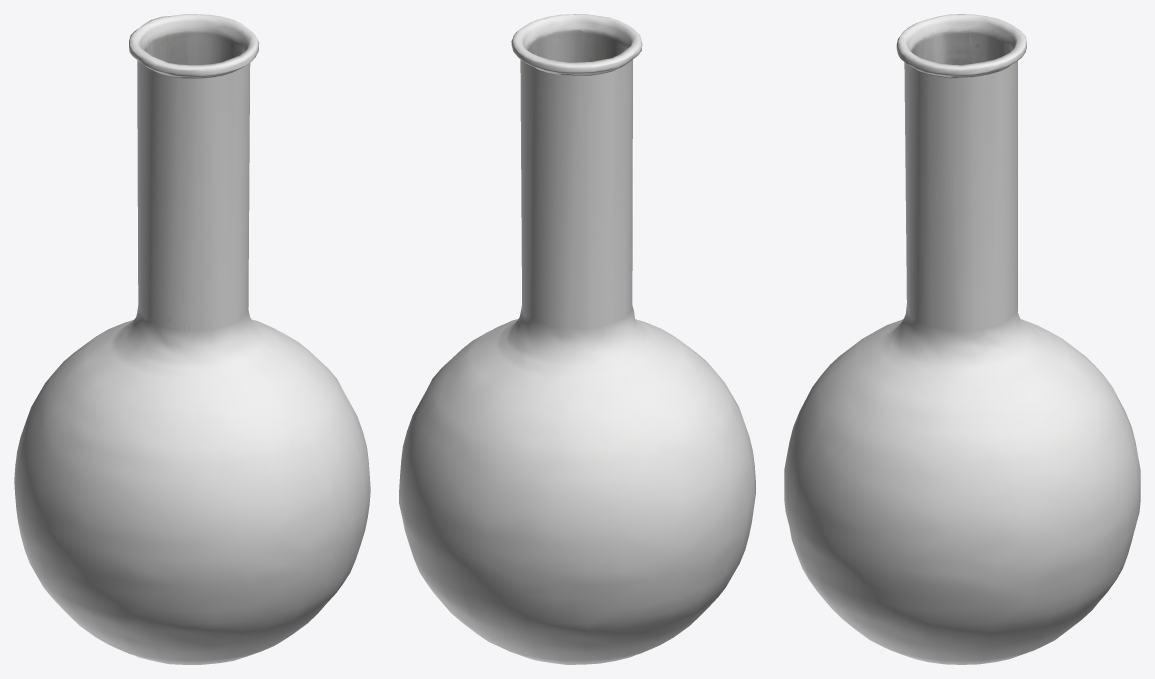
Rendered from FlorenceFlask.glb.
3 views of the same model, side by side, from view 1: azimuth 30°, elevation 25°; view 2: azimuth 150°, elevation 25°; view 3: azimuth 270°, elevation 25° (orthographic).
Parts seen in each view (by area): view 1: tripo_node_ff4a5fb6-4857-43e0-8318-18d36be78357; view 2: tripo_node_ff4a5fb6-4857-43e0-8318-18d36be78357; view 3: tripo_node_ff4a5fb6-4857-43e0-8318-18d36be78357.
Boxes of the visible parts, x1,y1,x2,y2 form: tripo_node_ff4a5fb6-4857-43e0-8318-18d36be78357: [14, 14, 370, 664]; tripo_node_ff4a5fb6-4857-43e0-8318-18d36be78357: [399, 14, 755, 664]; tripo_node_ff4a5fb6-4857-43e0-8318-18d36be78357: [784, 14, 1140, 664].
Bounding box in the file's own units: 0.5449 × 0.998 × 0.5449.
1 material, 1 textured.
